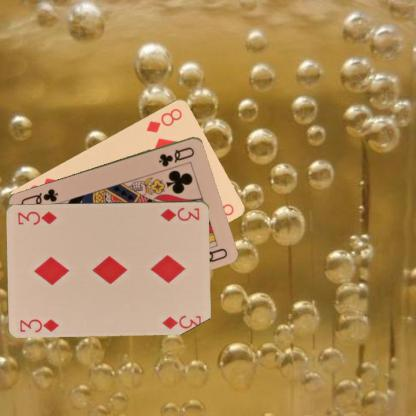3d: (158, 204, 201, 223), (17, 316, 61, 333)
8d: (143, 105, 184, 134)
Qc: (156, 144, 196, 167)
